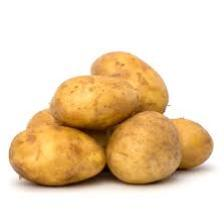Potato: (5, 121, 109, 187), (99, 108, 187, 184), (89, 48, 170, 117), (48, 74, 140, 128)
